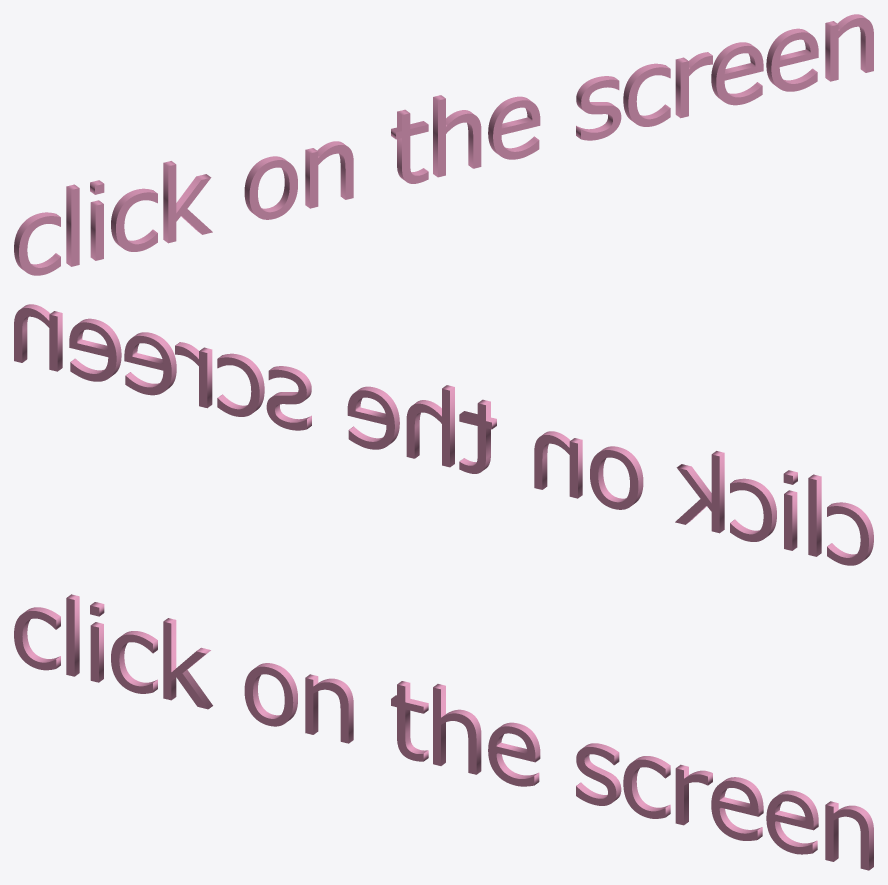
The model's file is title_Ex.fbx.
3 renders of one model, top to bottom at view 1: azimuth 30°, elevation 25°; view 2: azimuth 150°, elevation 25°; view 3: azimuth 330°, elevation 25°, orthographic.
Parts seen in each view (by area): view 1: テキスト; view 2: テキスト; view 3: テキスト.
Part boxes in pixels (x1,y1,x2,y2): テキスト: (14,14,873,275); テキスト: (14,304,873,565); テキスト: (14,594,873,870).
Bounding box in the file's own units: 596 × 52.25 × 6.
